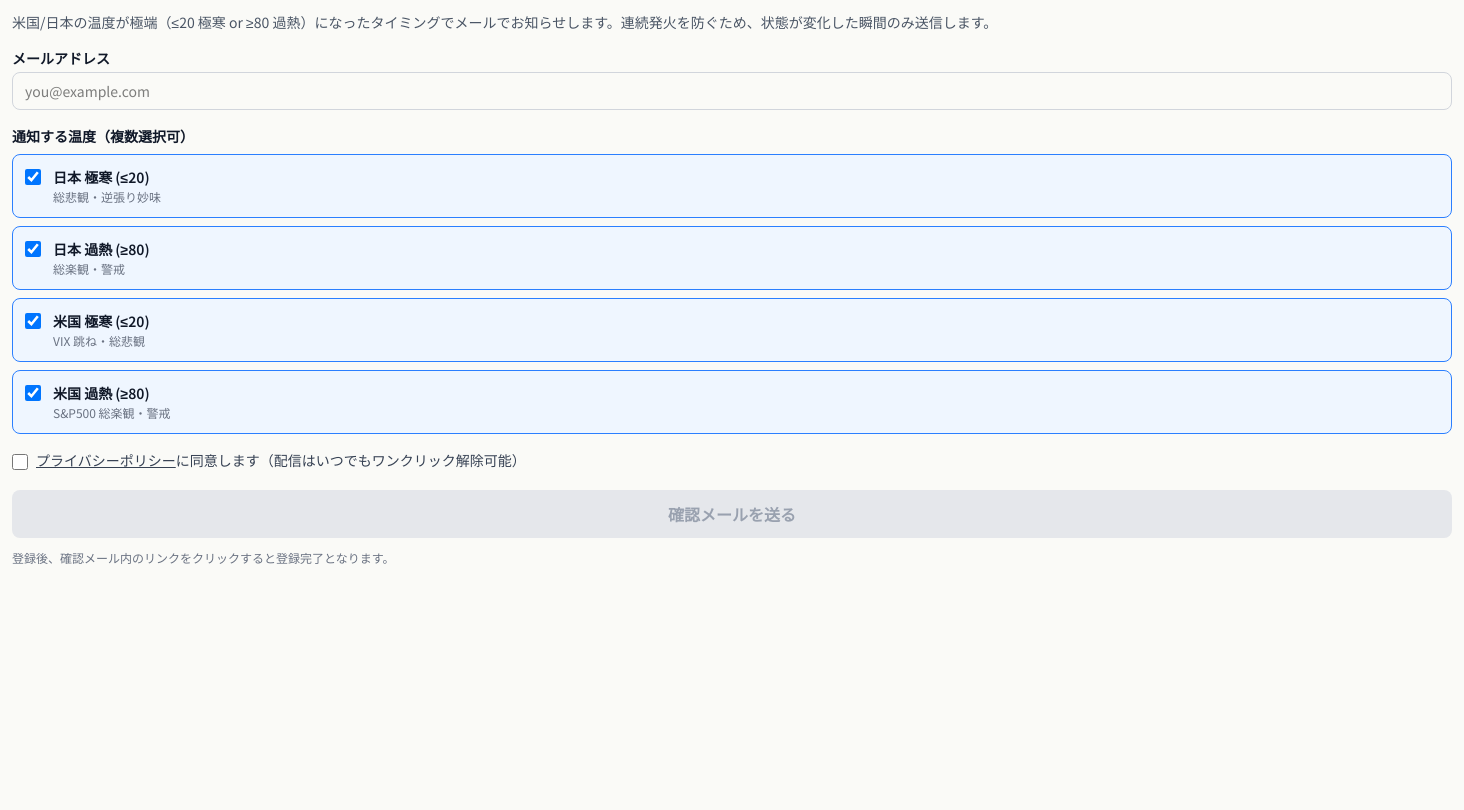
Test: AlertSignupForm › API エラー時は日本語のエラーメッセージを表示
Type "test@example.com" into the field labelled "メールアドレス" at (732, 91), box [12,72,1452,110]
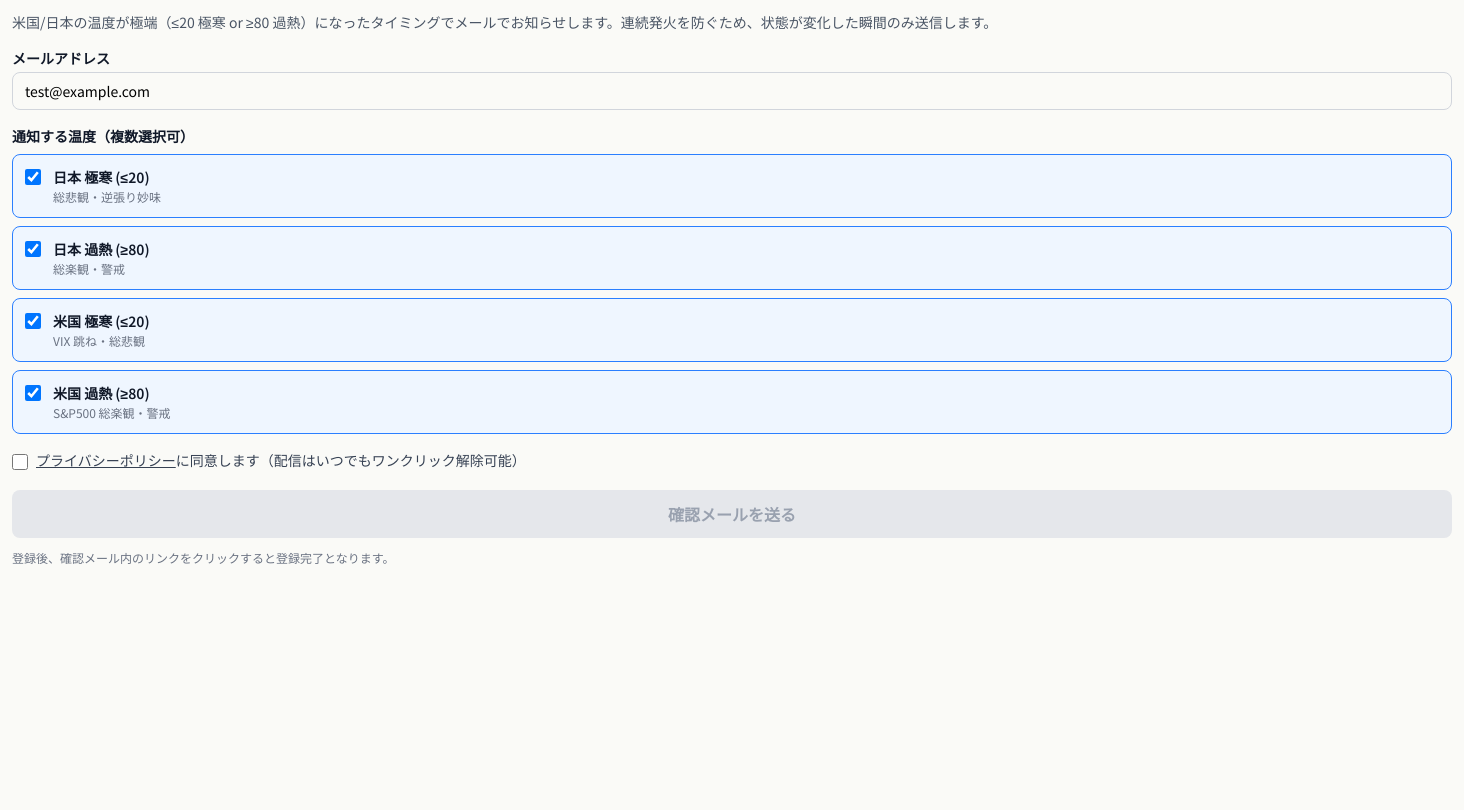
Click the checkbox labelled "プライバシーポリシー に同意します（配信はいつでもワンクリック解除可能）" at (20, 462), box [12,454,28,470]
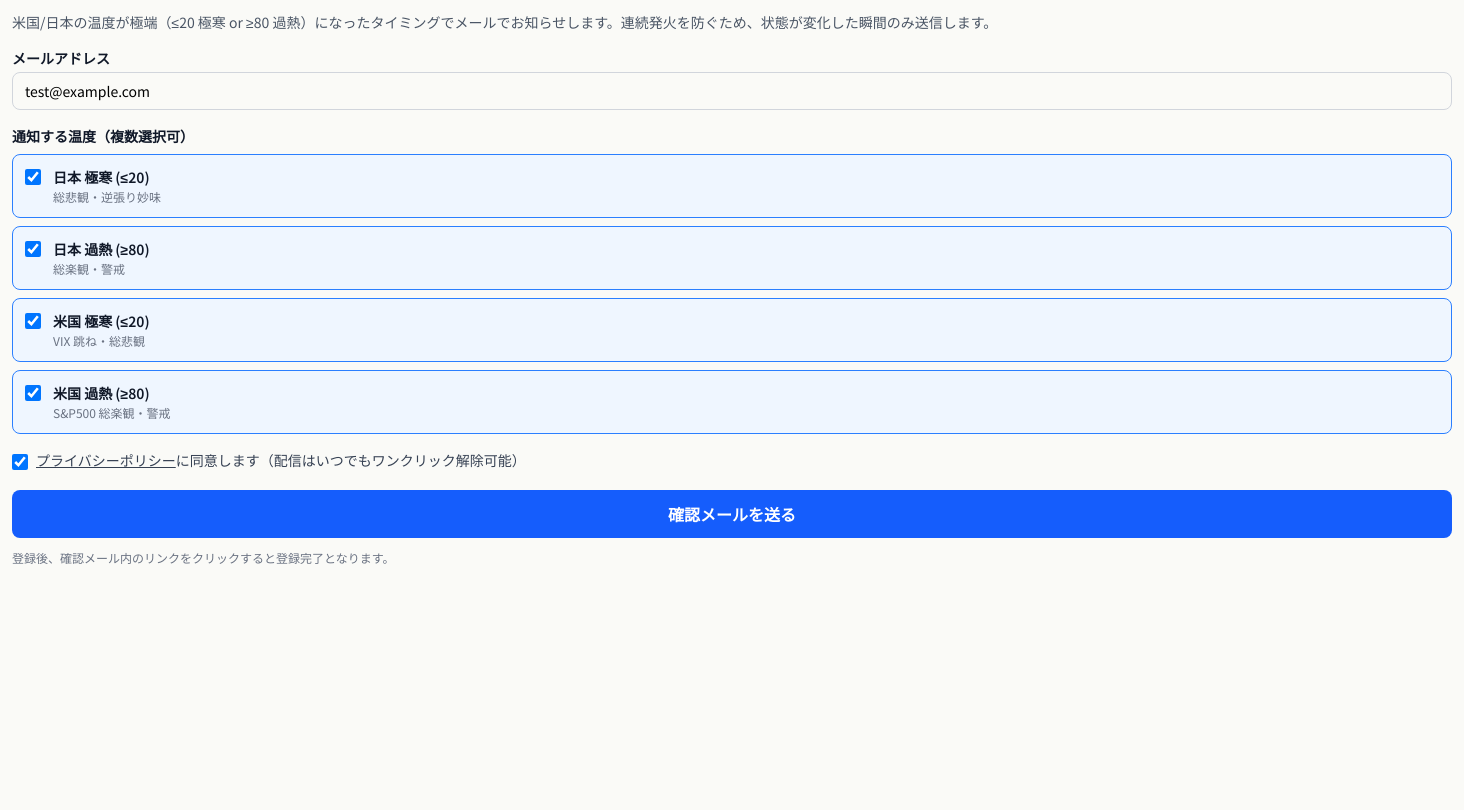
Click the button "確認メールを送る" at (732, 514), box [12,490,1452,538]
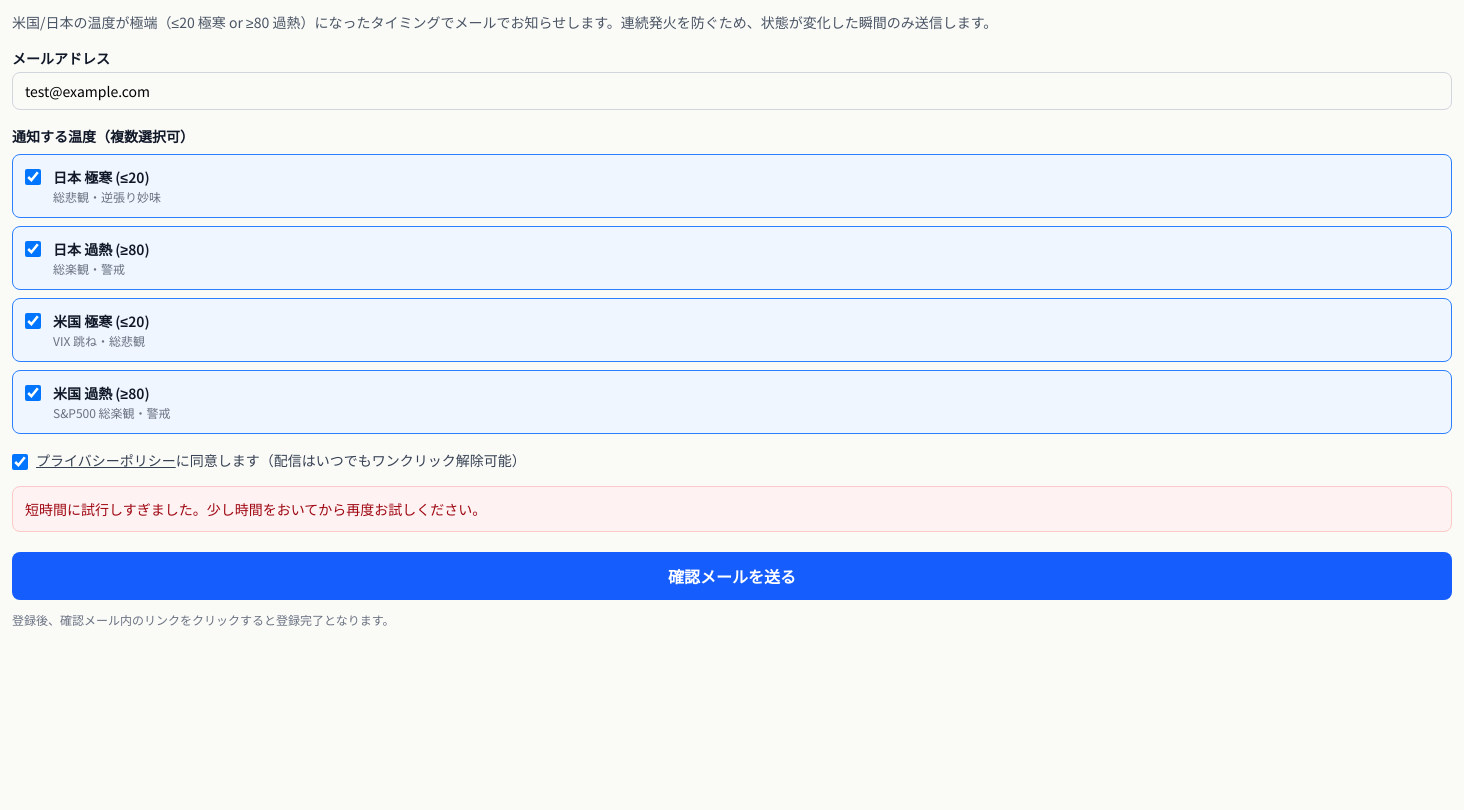
Now the message shows "短時間に試行しすぎました", box [25,499,486,519]
